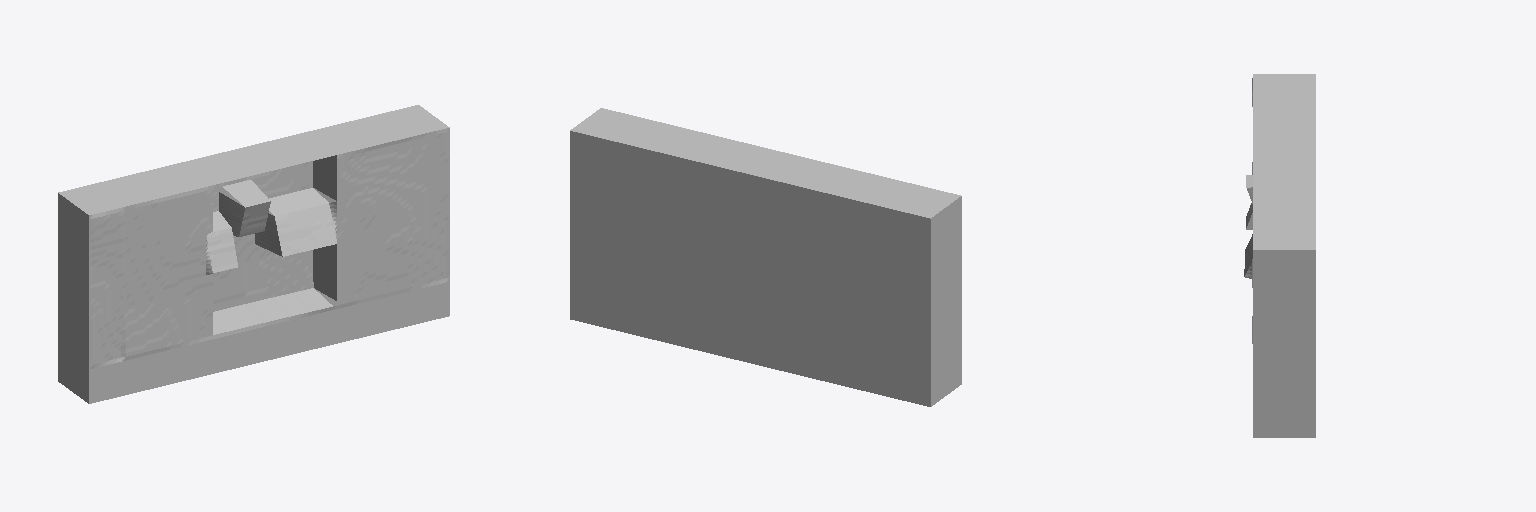
Rendered from rectangular_prism_bumps_6_0.obj.
3 views of the same model, side by side, from view 1: azimuth 30°, elevation 25°; view 2: azimuth 150°, elevation 25°; view 3: azimuth 270°, elevation 25° (orthographic).
Size of the model in its own units: 10 by 5 by 1.71.